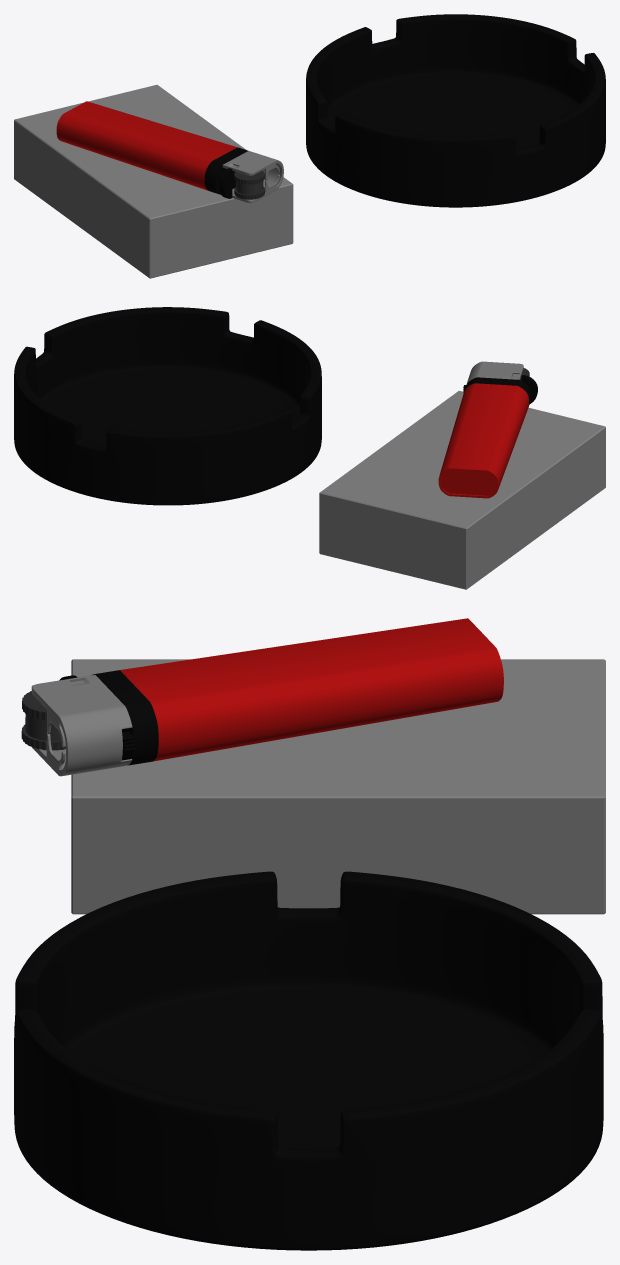
3 renders of one model, top to bottom at view 1: azimuth 30°, elevation 25°; view 2: azimuth 150°, elevation 25°; view 3: azimuth 270°, elevation 25°, orthographic. The views are drawn at different scales.
Parts seen in each view (by area): view 1: arch40_093_02, arch40_093_01, arch40_093_06, arch40_093_08, arch40_093_04, arch40_093_05, arch40_093_09; view 2: arch40_093_02, arch40_093_01, arch40_093_06, arch40_093_08, arch40_093_04; view 3: arch40_093_02, arch40_093_01, arch40_093_06, arch40_093_08, arch40_093_04, arch40_093_05.
Boxes of the visible parts, bbox=[...] form: arch40_093_02: bbox=[306, 14, 605, 207]; arch40_093_01: bbox=[14, 84, 293, 278]; arch40_093_06: bbox=[56, 101, 237, 190]; arch40_093_08: bbox=[222, 151, 283, 203]; arch40_093_04: bbox=[204, 147, 248, 194]; arch40_093_05: bbox=[234, 170, 264, 199]; arch40_093_09: bbox=[219, 168, 235, 198]; arch40_093_02: bbox=[14, 307, 321, 505]; arch40_093_01: bbox=[319, 391, 605, 589]; arch40_093_06: bbox=[438, 383, 528, 498]; arch40_093_08: bbox=[466, 361, 523, 384]; arch40_093_04: bbox=[464, 377, 530, 407]; arch40_093_02: bbox=[14, 871, 603, 1250]; arch40_093_01: bbox=[71, 659, 605, 914]; arch40_093_06: bbox=[119, 618, 503, 761]; arch40_093_08: bbox=[31, 674, 132, 776]; arch40_093_04: bbox=[92, 670, 158, 765]; arch40_093_05: bbox=[21, 691, 65, 750].
Bounding box in the file's own units: 190 × 33.21 × 99.63.
